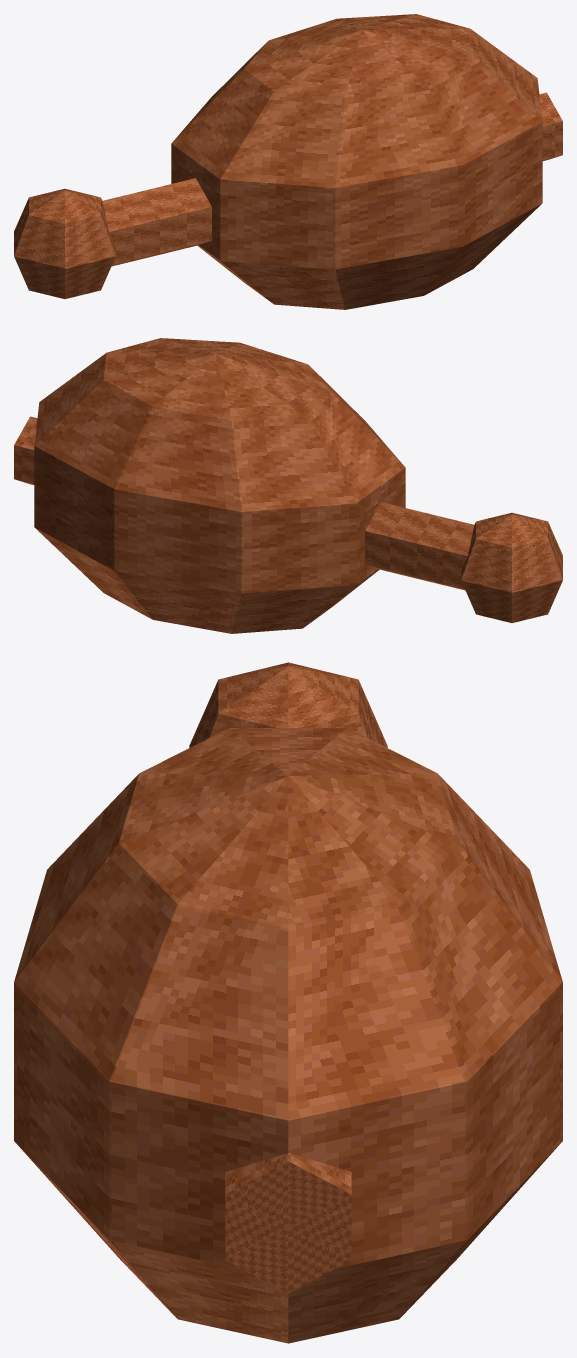
The model's file is carne_temperada.glb.
3 views of the same model, one above another, from view 1: azimuth 30°, elevation 25°; view 2: azimuth 150°, elevation 25°; view 3: azimuth 270°, elevation 25° (orthographic). The views are drawn at different scales.
Parts seen in each view (by area): view 1: carne_temperada; view 2: carne_temperada; view 3: carne_temperada.
Part boxes in pixels (x1,y1,x2,y2): carne_temperada: [14, 14, 562, 309]; carne_temperada: [14, 338, 562, 633]; carne_temperada: [14, 662, 562, 1343].
Size of the model in its own units: 0.575 by 0.272 by 0.2637.
Materials: 1 (1 with a texture image).
